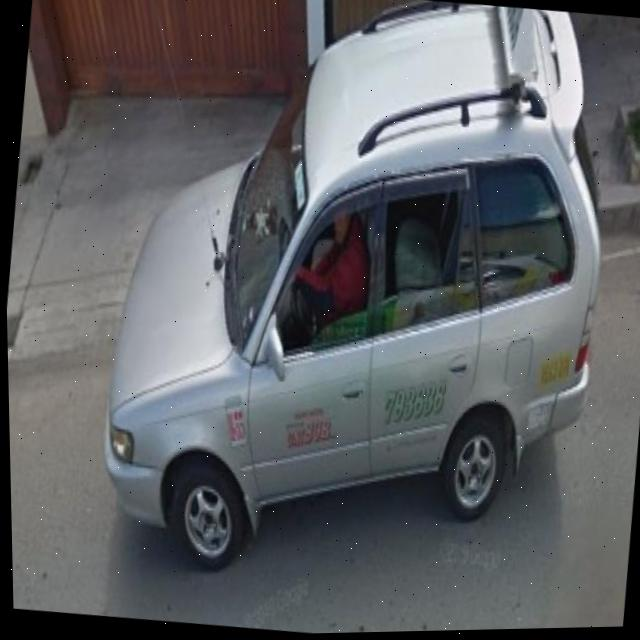vehicle: (90, 0, 623, 490)
